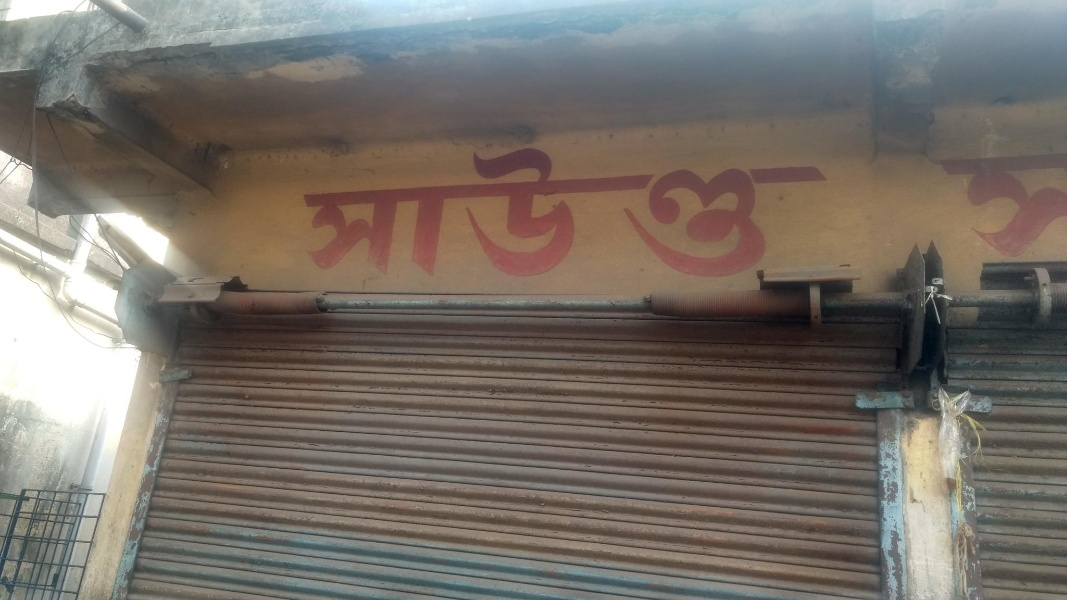text: (305, 130, 320, 278), (321, 130, 336, 278), (337, 130, 352, 278), (353, 130, 368, 278), (369, 130, 384, 278), (385, 130, 400, 278), (401, 130, 416, 278), (417, 130, 432, 278), (433, 130, 448, 278), (449, 130, 464, 278), (465, 130, 480, 278), (481, 130, 496, 278), (497, 130, 512, 278), (513, 130, 528, 278), (529, 130, 544, 278), (545, 130, 560, 278), (561, 130, 576, 278), (577, 130, 592, 278), (593, 130, 608, 278), (609, 130, 624, 278), (625, 130, 640, 278), (641, 130, 656, 278), (657, 130, 672, 278), (673, 130, 688, 278), (689, 130, 704, 278), (705, 130, 720, 278), (721, 130, 736, 278), (737, 130, 752, 278), (753, 130, 768, 278), (769, 130, 784, 278), (785, 130, 800, 278), (801, 130, 816, 278), (817, 130, 832, 278), (833, 130, 848, 278), (849, 130, 864, 278), (945, 136, 960, 258), (961, 136, 976, 258), (977, 136, 992, 258), (993, 136, 1008, 258), (1009, 136, 1024, 258), (1025, 136, 1040, 258), (1041, 136, 1056, 258), (296, 130, 304, 278), (935, 136, 944, 258), (1057, 136, 1066, 258), (865, 130, 867, 278)
